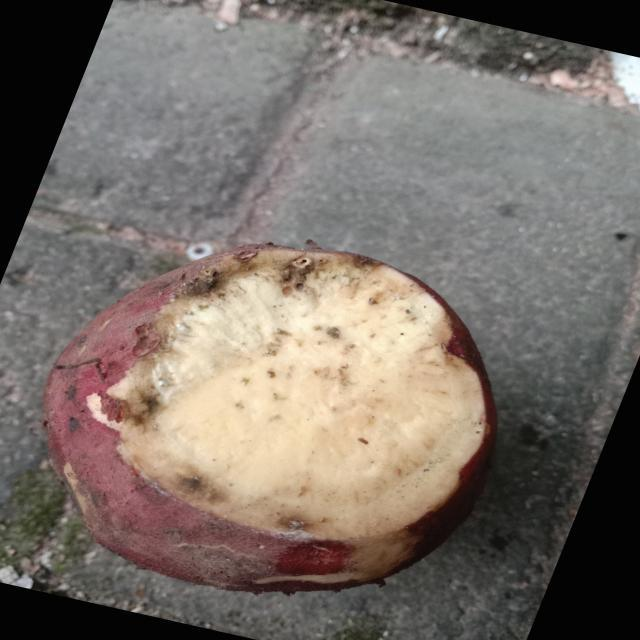Sick Sweet Potato_Tuber Rot: (108, 249, 487, 539)
